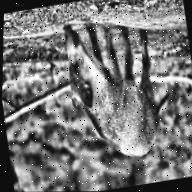boar: (55, 11, 171, 166)
